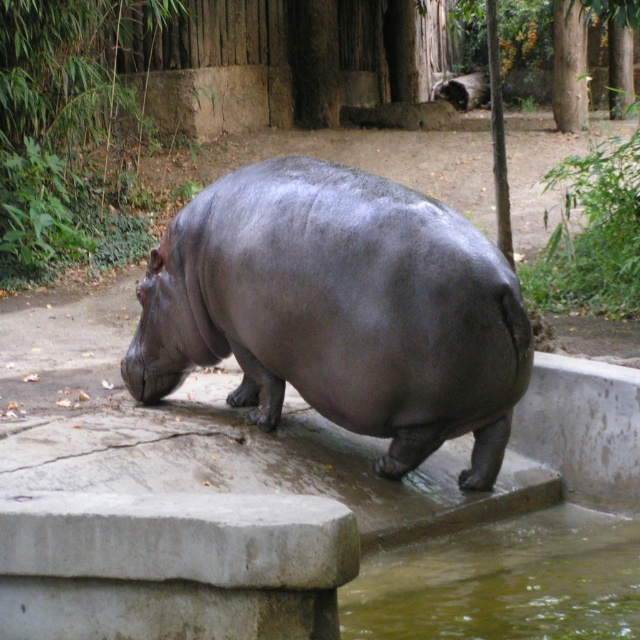Hippopotamus: (119, 157, 534, 493)
